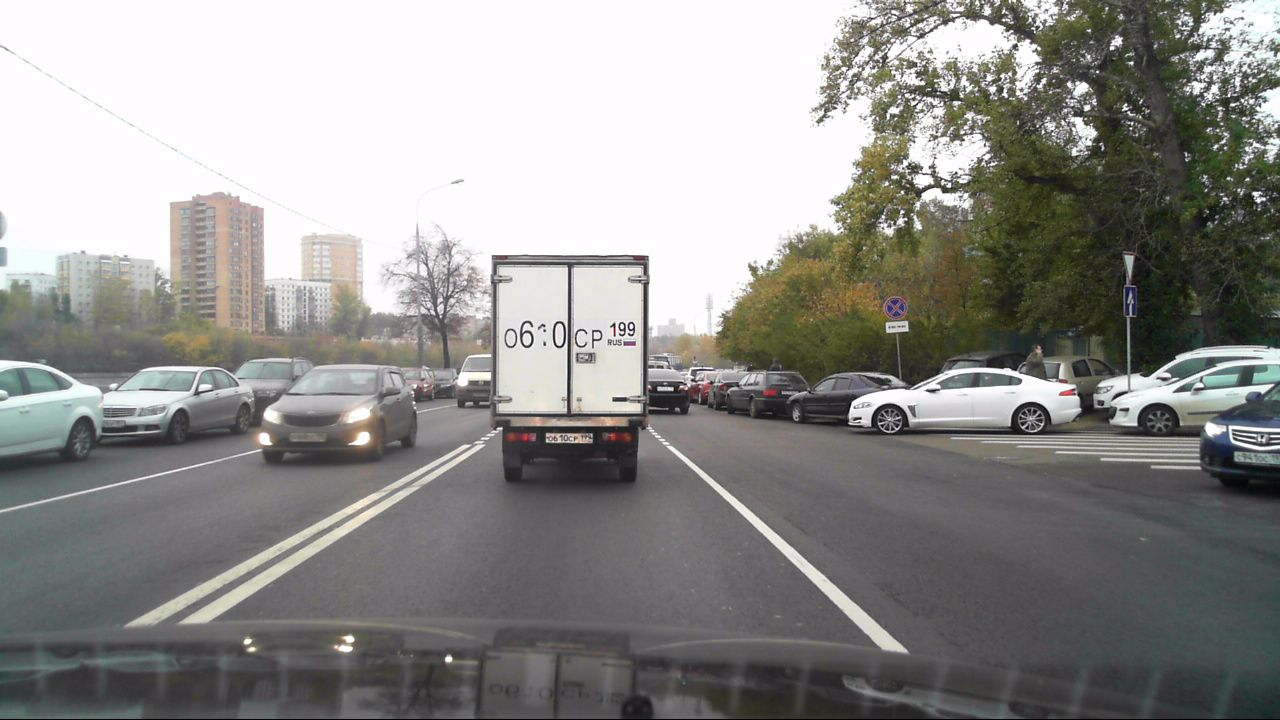No Parking: (885, 294, 908, 319)
